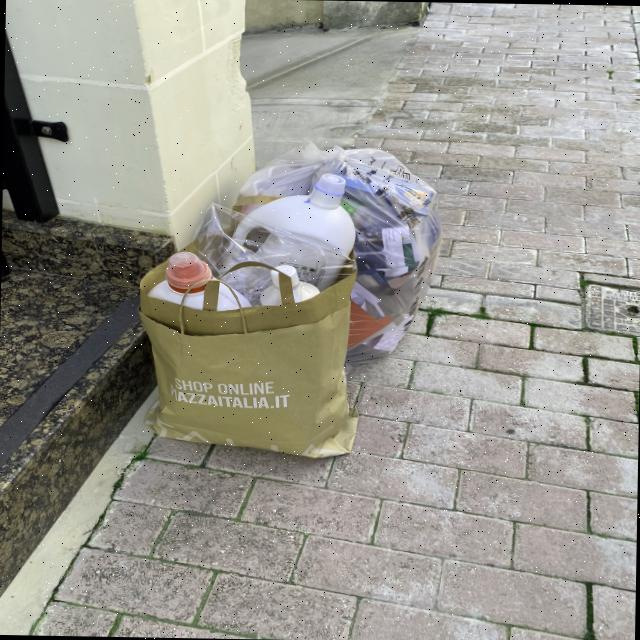Other Waste: (130, 186, 366, 459)
Recyclable Material: (243, 144, 440, 356)
